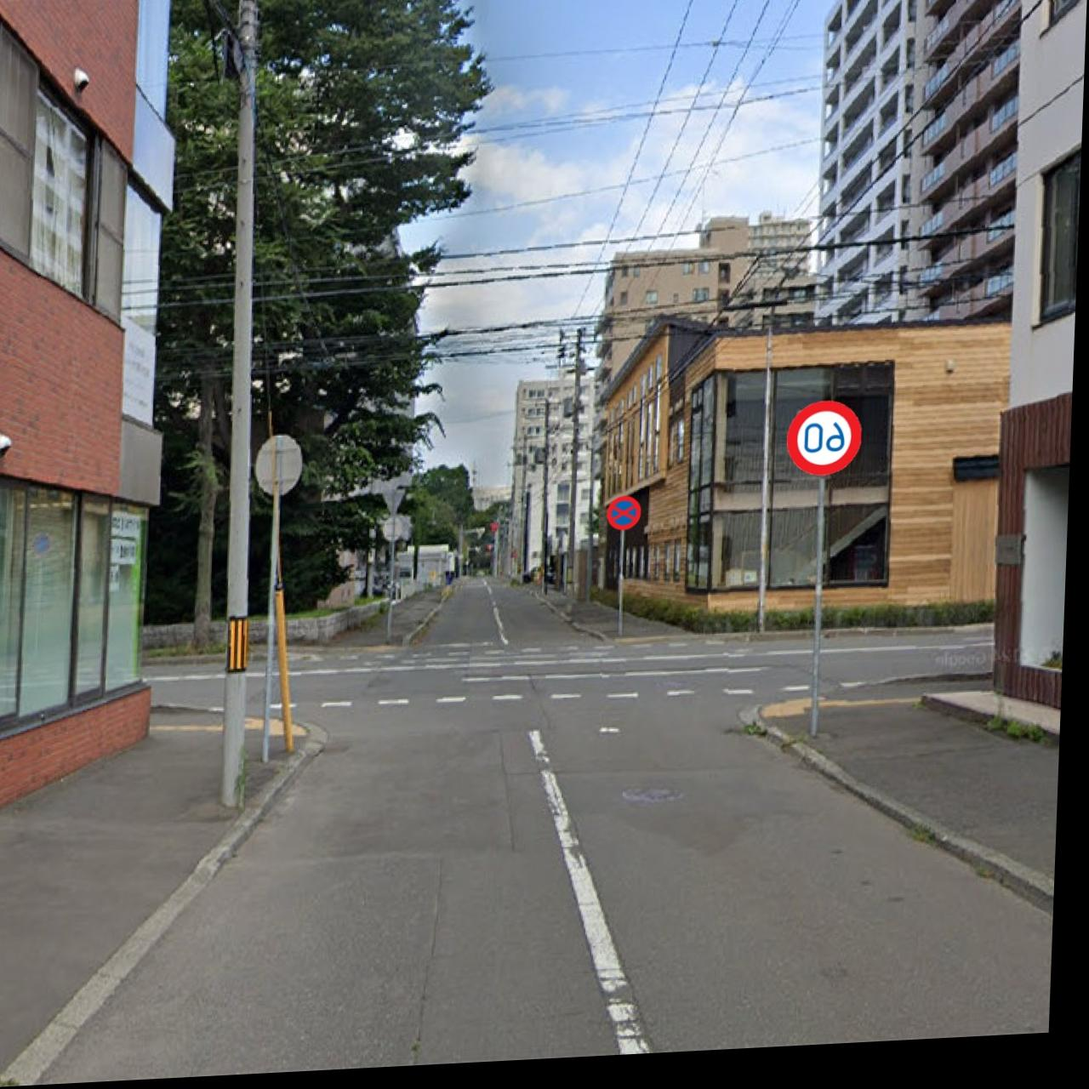stop_sign: (605, 485, 646, 533)
